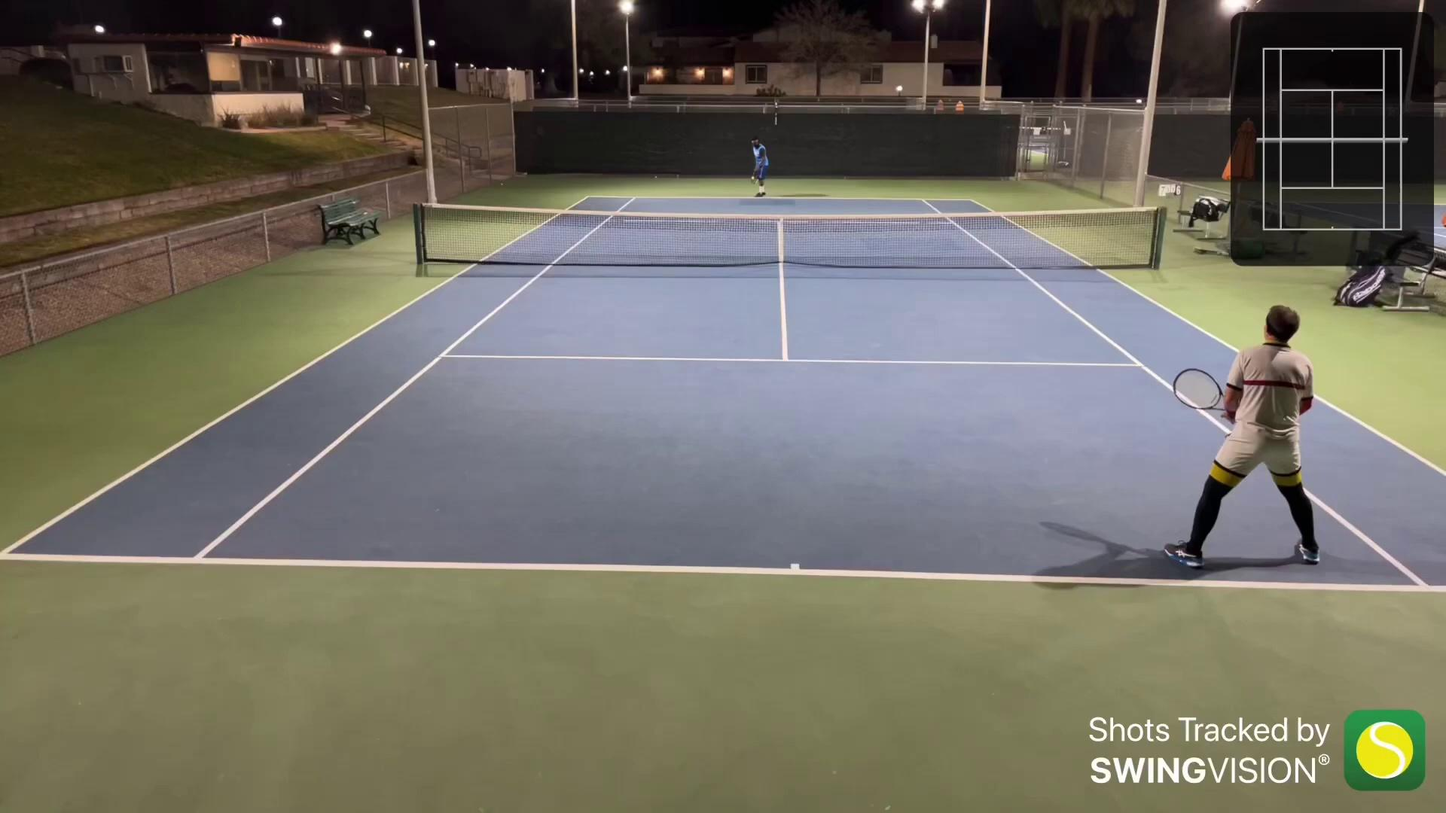ball: (750, 176, 755, 179)
